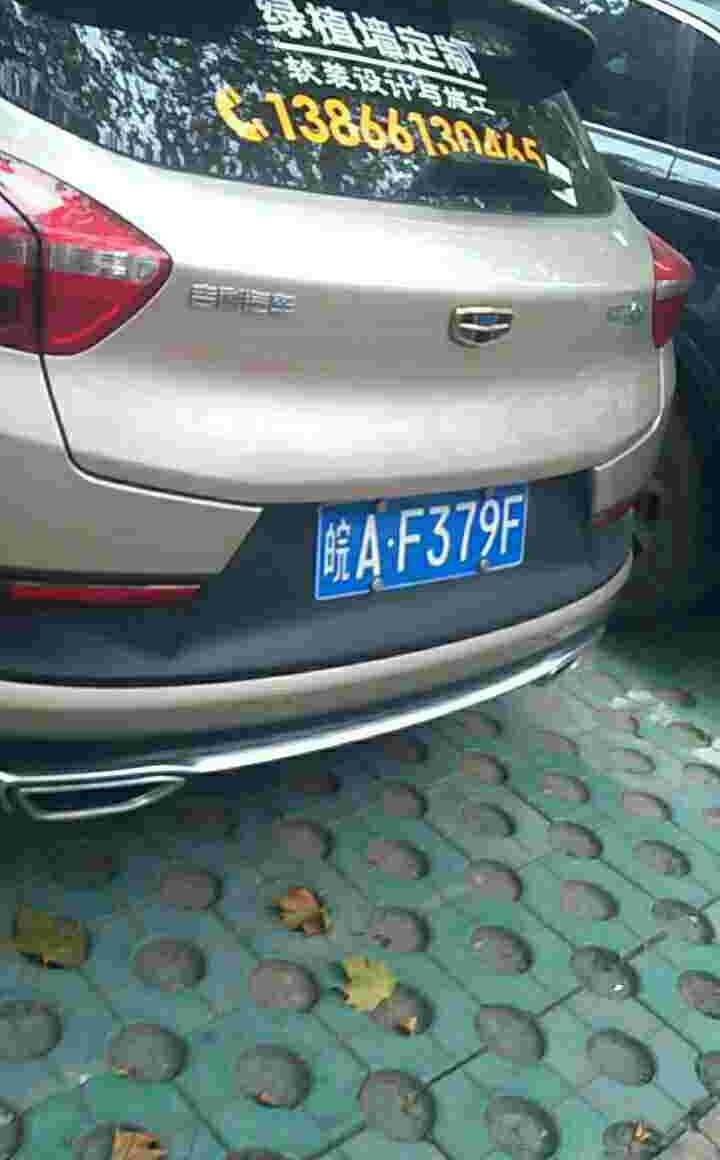car: (317, 491, 513, 577)
